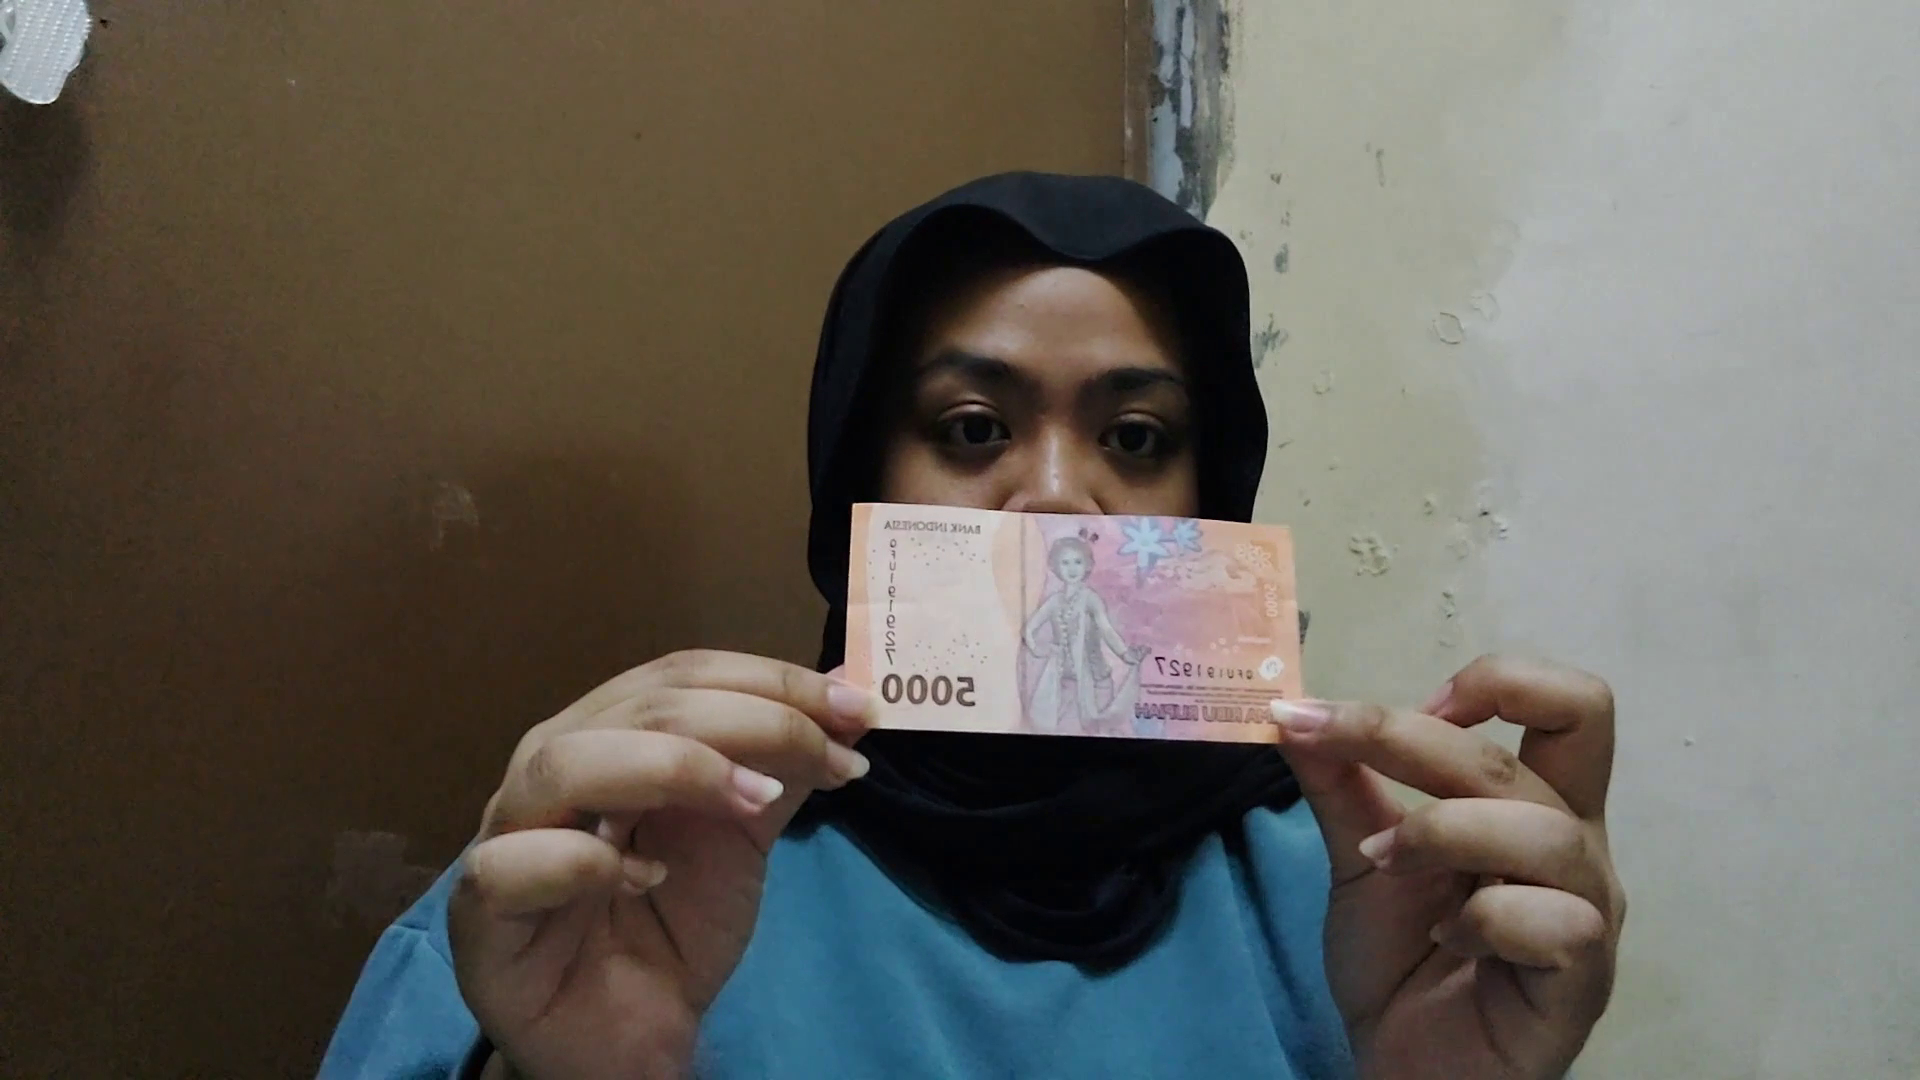5k: (844, 501, 1309, 741)
